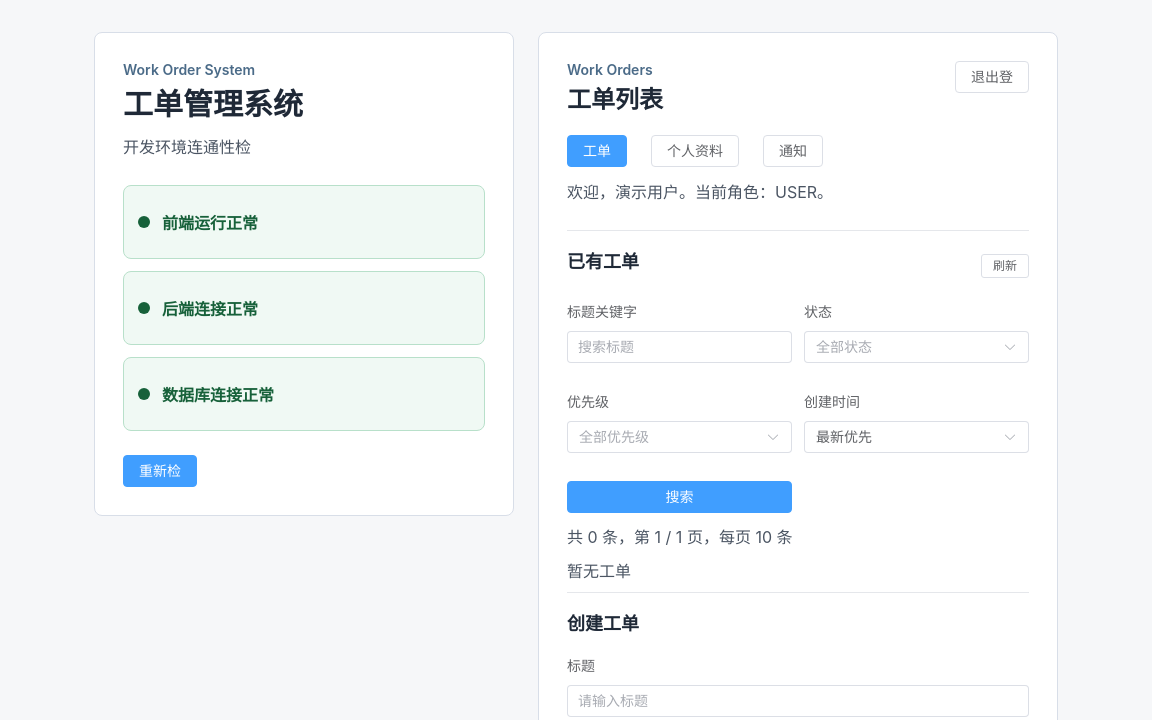
Test: App › shows current username, nickname, and role on profile page
Click the button "个人资料".
click(695, 151)  # box [651,135,739,167]
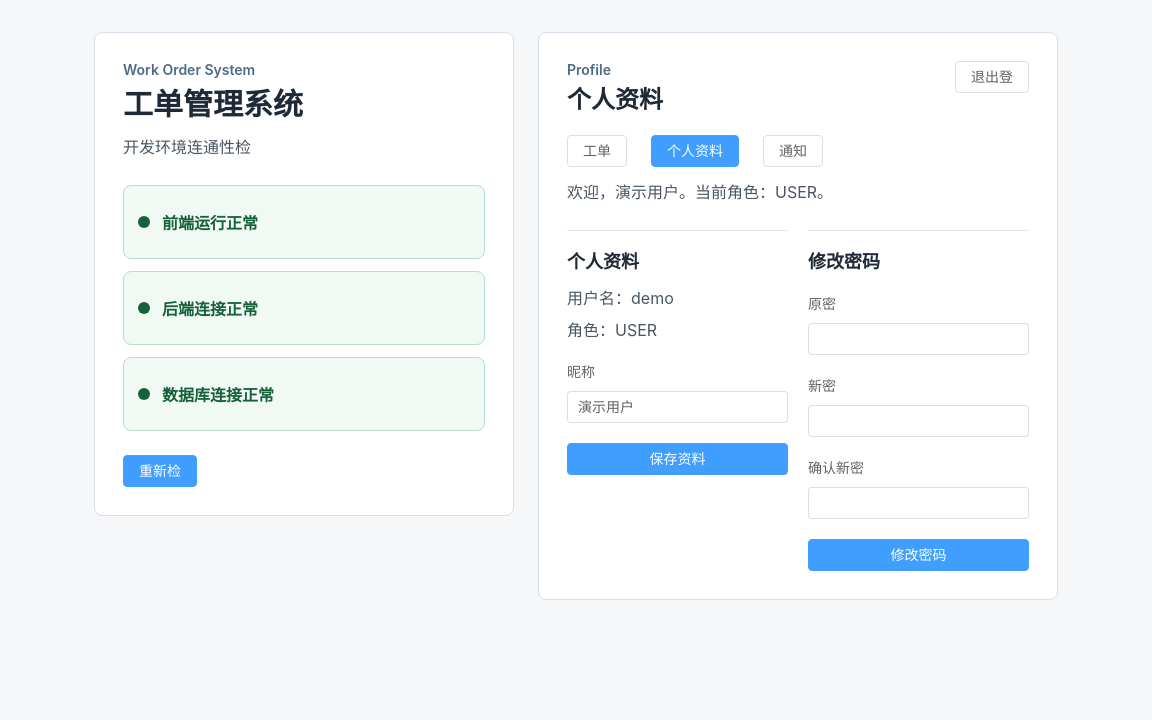
Check: the text "角色：USER" is shown, box [567,182,833,202]
Check: the text "用户名：demo" is shown, box [567,288,674,308]
